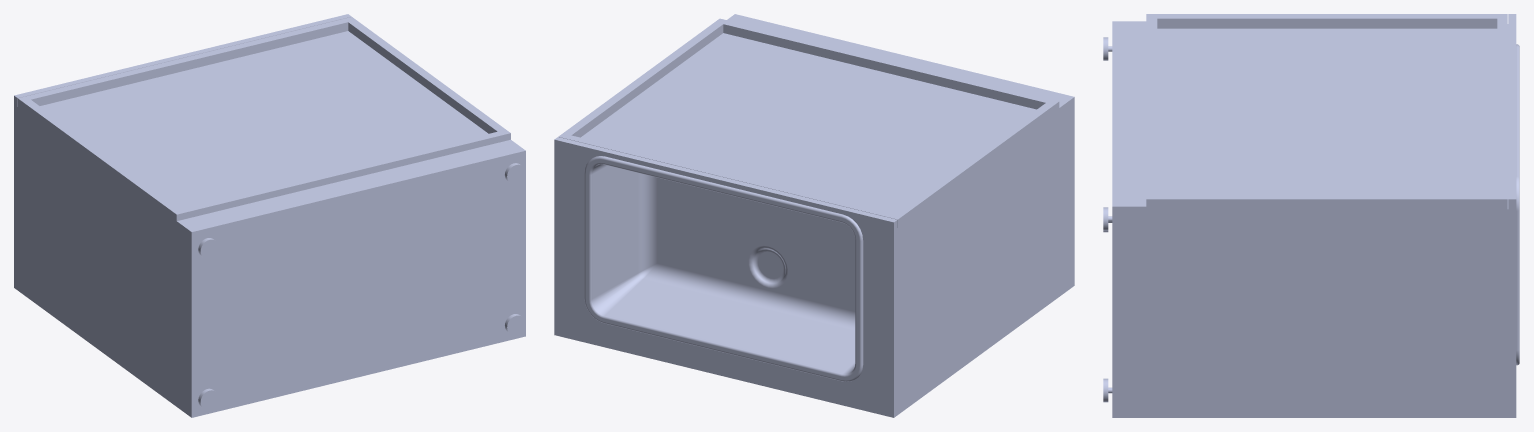
Rendered from Sink base cabinet - 40in..fbx.
The picture shows the model from 3 angles, left to right: view 1: azimuth 30°, elevation 25°; view 2: azimuth 150°, elevation 25°; view 3: azimuth 270°, elevation 25°; orthographic projection. The views are drawn at different scales.
Parts seen in each view (by area): view 1: Body_1; view 2: Body_1; view 3: Body_1.
Boxes of the visible parts, <box> form: Body_1: <box>14,14,525,417</box>; Body_1: <box>554,14,1074,417</box>; Body_1: <box>1103,14,1519,417</box>.
Bounding box in the file's own units: 1.02 × 0.9649 × 0.5588.
